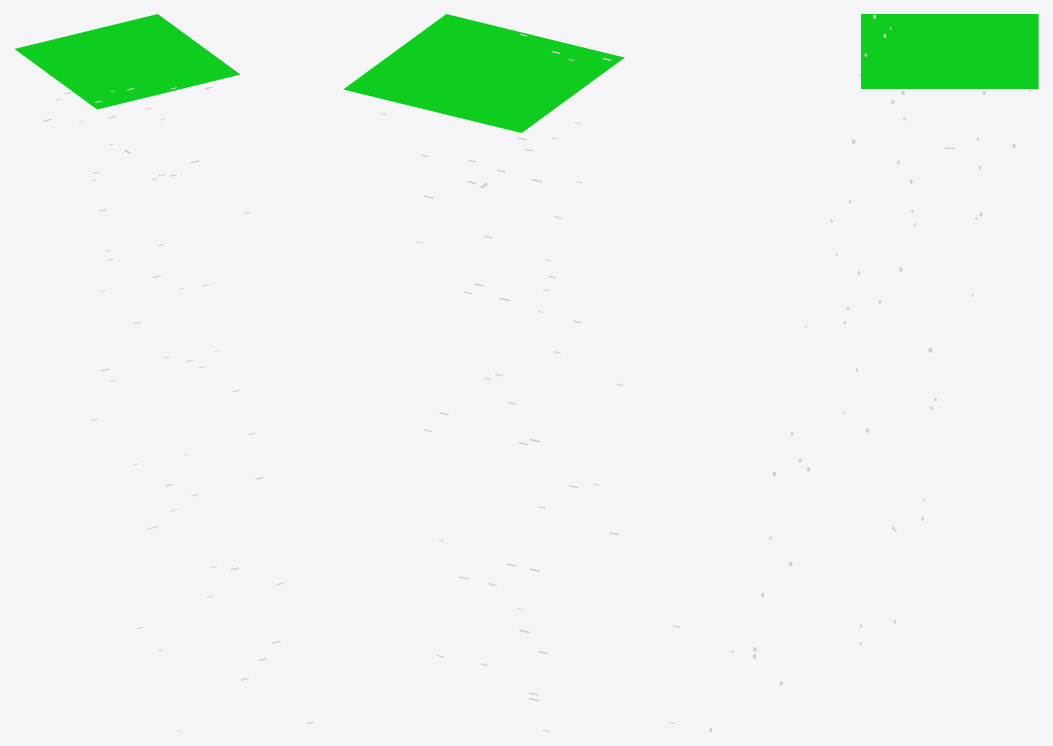
The model's file is otiba.fbx.
3 views of the same model, side by side, from view 1: azimuth 30°, elevation 25°; view 2: azimuth 150°, elevation 25°; view 3: azimuth 270°, elevation 25° (orthographic). The views are drawn at different scales.
Visible parts, largest first — view 1: Emitter; view 2: Emitter; view 3: Emitter.
Part boxes in pixels (bbox=[...]): Emitter: bbox=[15, 14, 239, 109]; Emitter: bbox=[343, 14, 624, 132]; Emitter: bbox=[861, 14, 1038, 88].
Size of the model in its own units: 519 by 1995 by 927.
